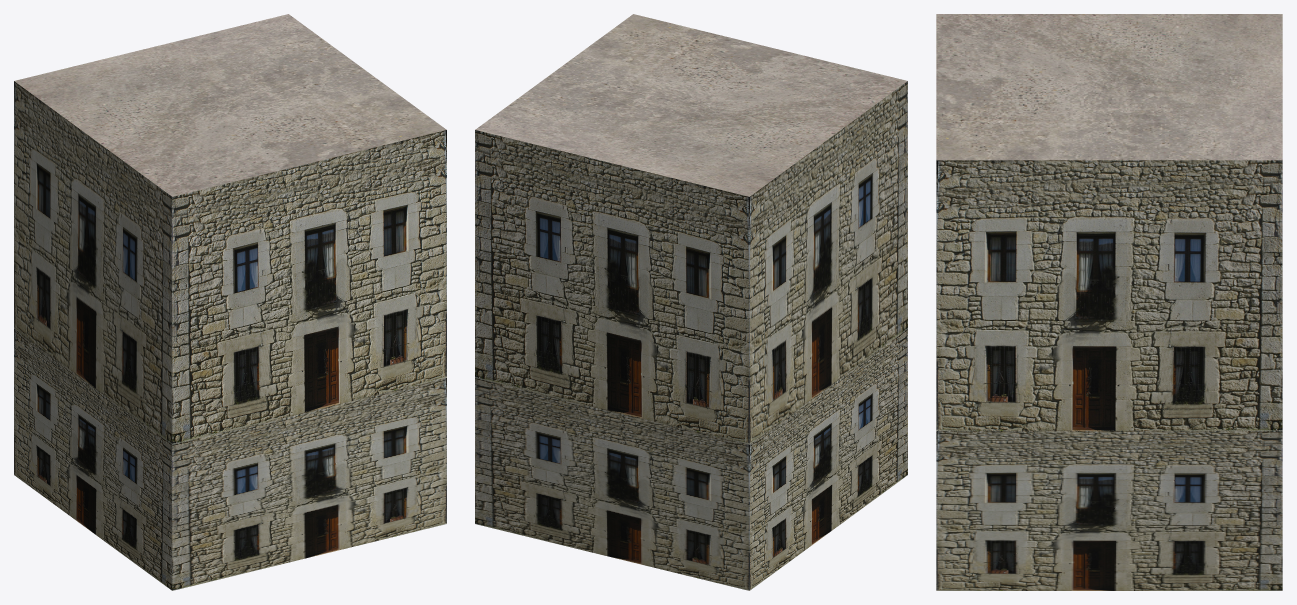
File: BagBuilding14_0.fbx
3 renders of one model, left to right at view 1: azimuth 30°, elevation 25°; view 2: azimuth 150°, elevation 25°; view 3: azimuth 270°, elevation 25°, orthographic. The views are drawn at different scales.
Parts seen in each view (by area): view 1: main0, roof0, mainA0, mainFlip0, mainFlipA0; view 2: main0, roof0, mainA0, mainFlip0, mainFlipA0; view 3: mainFlip0, mainFlipA0, roof0.
Part boxes in pixels (bbox=[...]): main0: bbox=[172, 130, 446, 444]; roof0: bbox=[14, 14, 446, 196]; mainA0: bbox=[172, 378, 446, 590]; mainFlip0: bbox=[14, 81, 172, 444]; mainFlipA0: bbox=[14, 328, 172, 590]; main0: bbox=[475, 130, 749, 444]; roof0: bbox=[475, 14, 907, 196]; mainA0: bbox=[475, 378, 749, 590]; mainFlip0: bbox=[749, 81, 907, 444]; mainFlipA0: bbox=[749, 328, 907, 590]; mainFlip0: bbox=[936, 160, 1282, 431]; mainFlipA0: bbox=[936, 430, 1282, 590]; roof0: bbox=[936, 14, 1282, 160].
Size of the model in its own units: 16.74 by 22.96 by 16.72.
